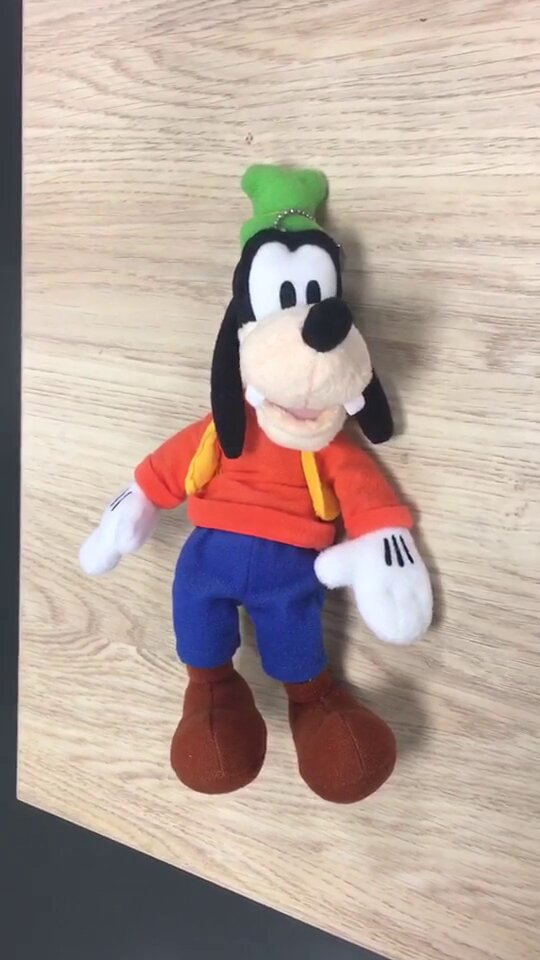goofy: (75, 161, 440, 804)
